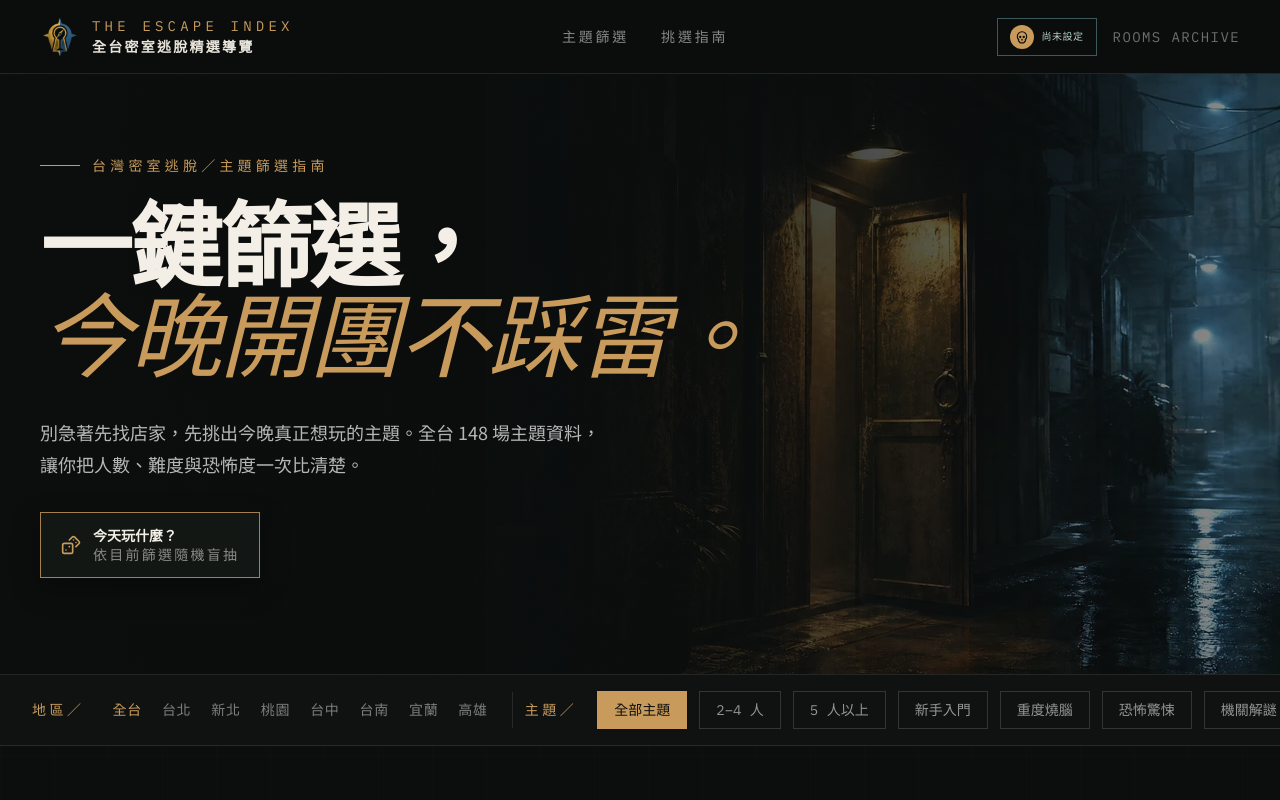
Home booking CTA layout › filters newly added Taoyuan and Yilan topics by city
Click the button "桃園" at [275, 710], box [253,692,298,728]
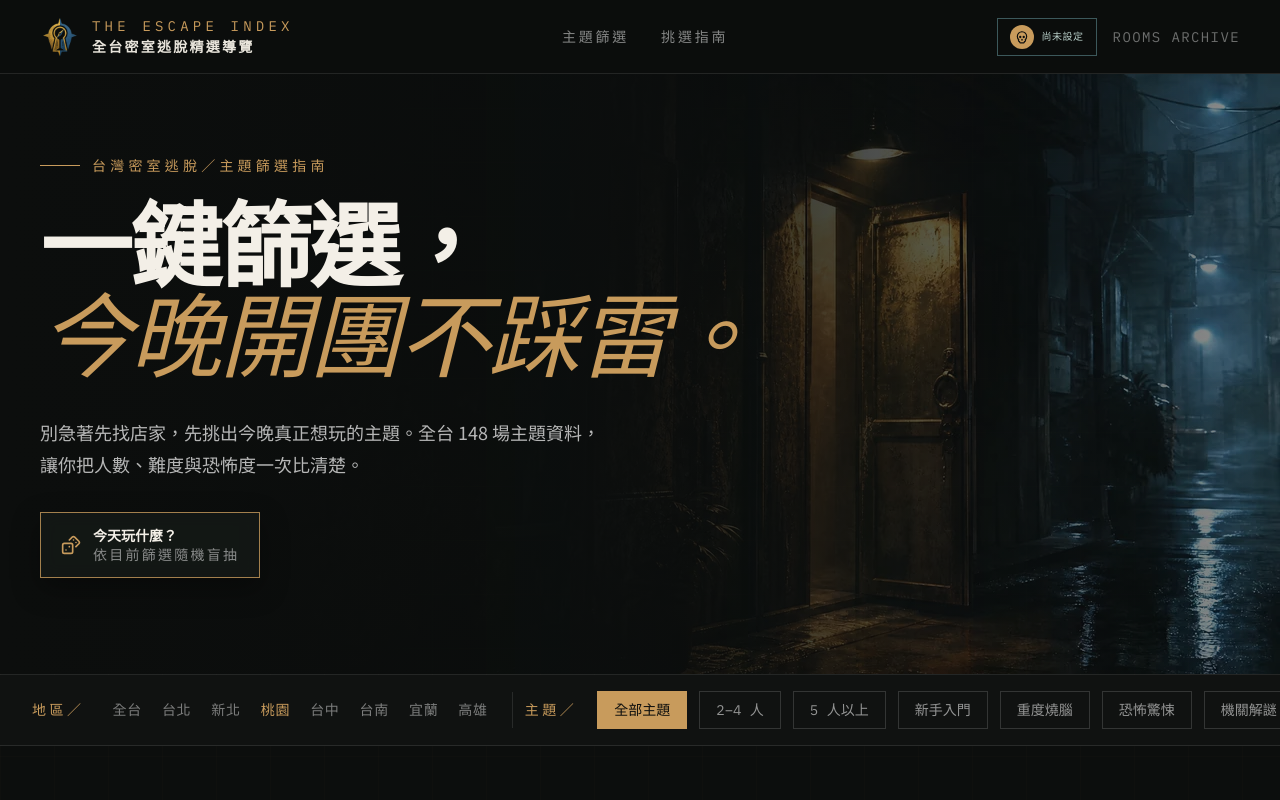
Click the button "宜蘭" at [424, 710], box [401,692,446,728]
(page scrolled)
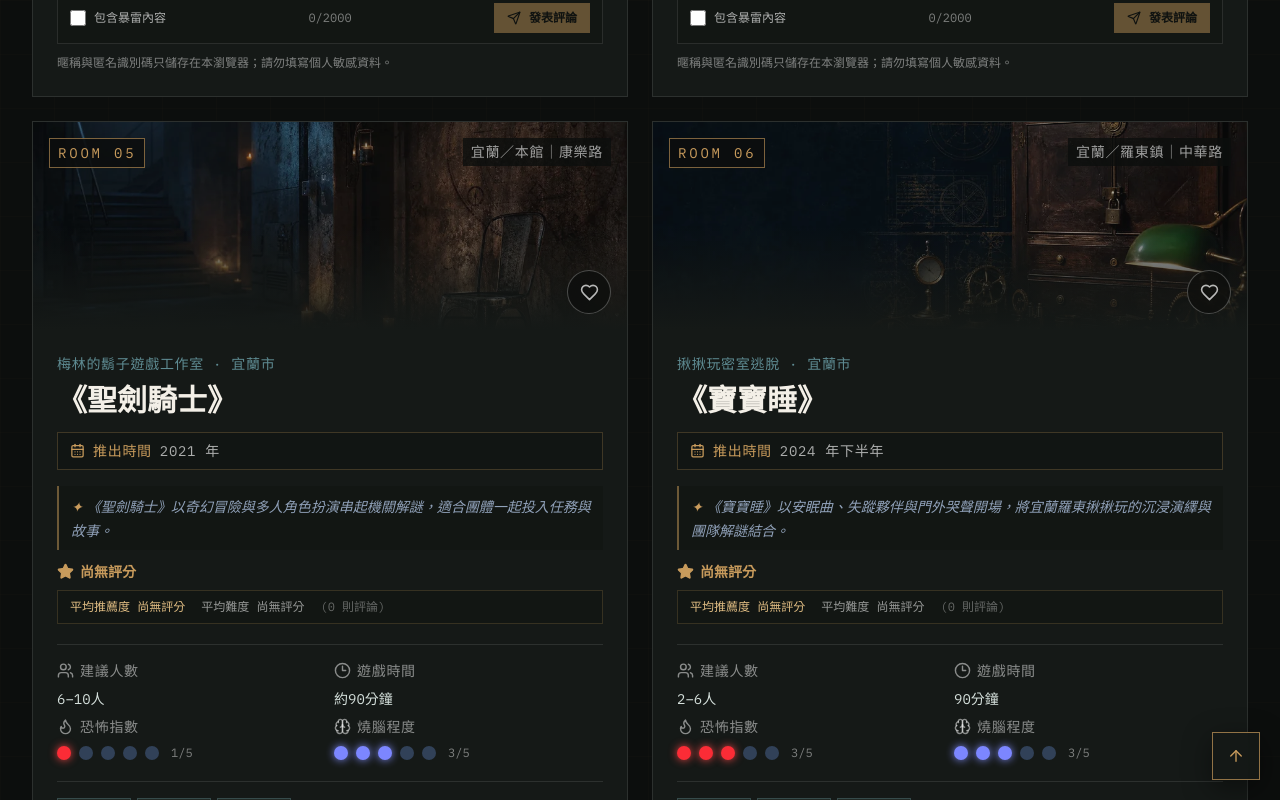
Now the heading "《聖劍騎士》" is shown, box [57,384,237,417]
